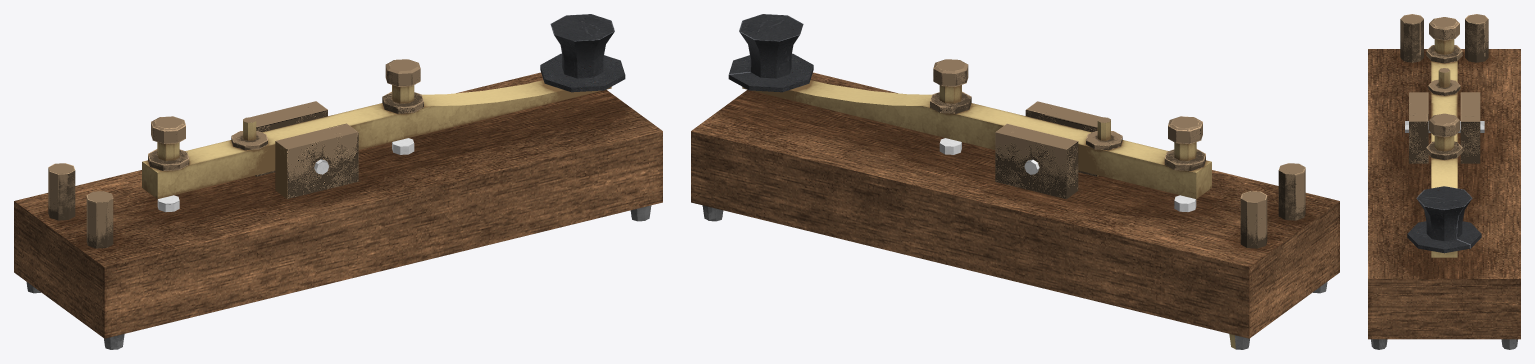
Rendered from morse_code_bleeper.glb.
3 views of the same model, side by side, from view 1: azimuth 30°, elevation 25°; view 2: azimuth 150°, elevation 25°; view 3: azimuth 270°, elevation 25° (orthographic). The views are drawn at different scales.
Parts seen in each view (by area): view 1: Object_2; view 2: Object_2; view 3: Object_2.
Part boxes in pixels (<box>): Object_2: <box>14,14,662,349</box>; Object_2: <box>691,14,1339,349</box>; Object_2: <box>1368,14,1520,349</box>.
Bounding box in the file's own units: 6.36 × 1.87 × 1.78.
Materials: 1 (1 with a texture image).
